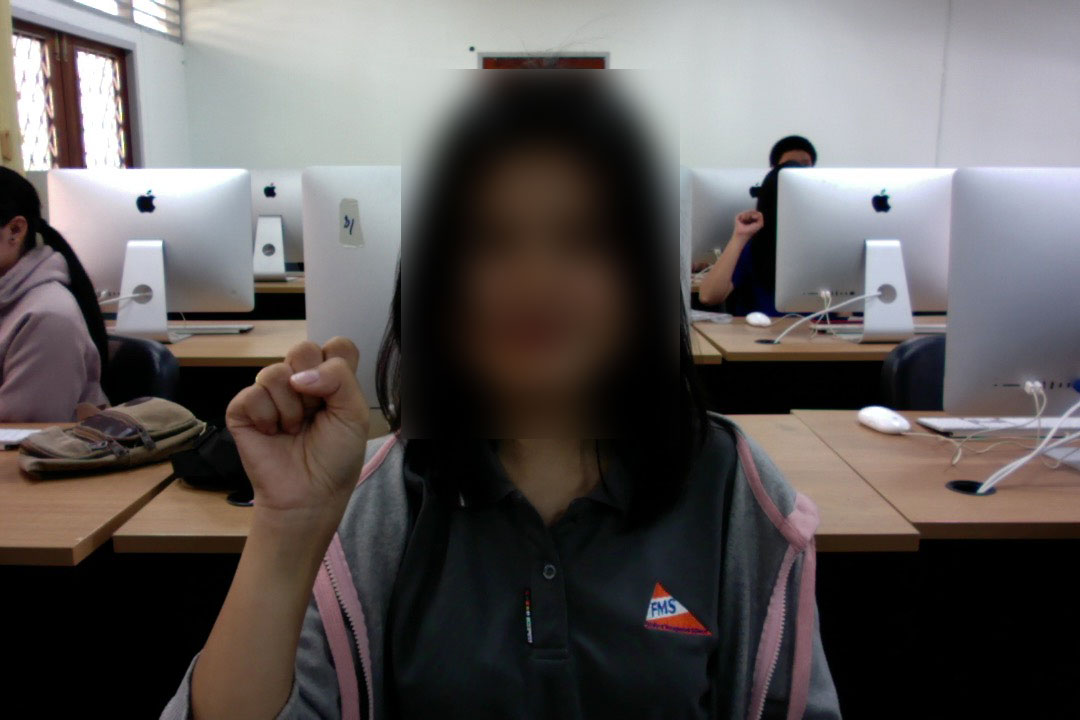sor: (223, 330, 376, 543)
